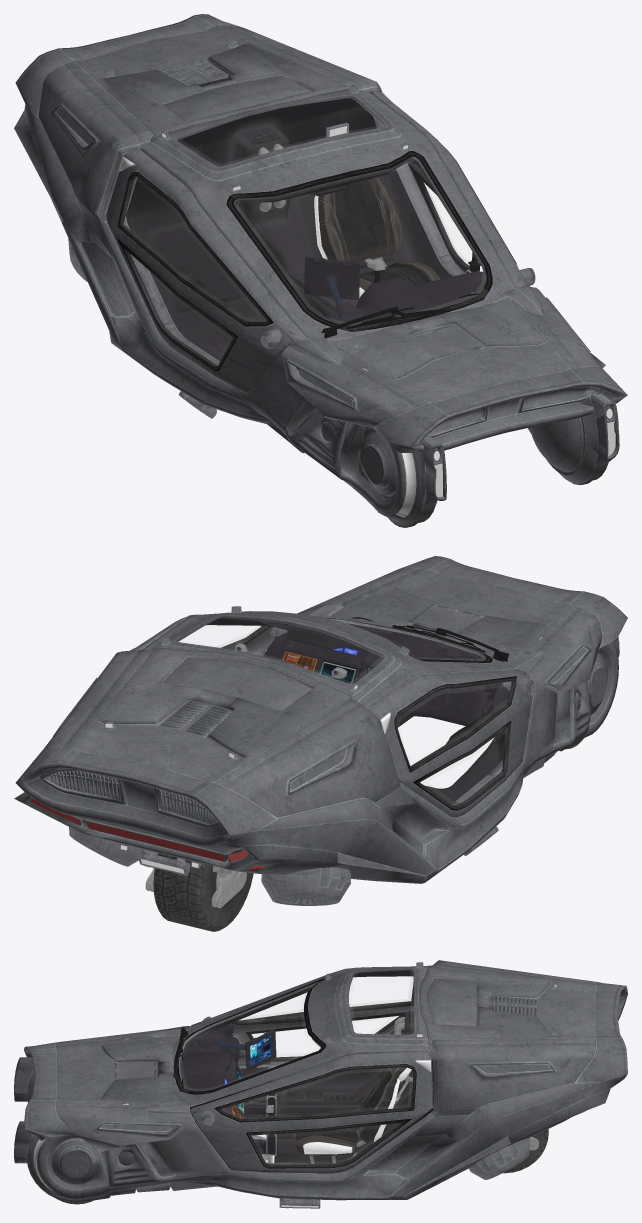
Rendered from car2k.glb.
3 views of the same model, one above another, from view 1: azimuth 30°, elevation 25°; view 2: azimuth 150°, elevation 25°; view 3: azimuth 270°, elevation 25° (orthographic). The views are drawn at different scales.
Parts seen in each view (by area): view 1: spinner, spinner.001; view 2: spinner, spinner.001; view 3: spinner, spinner.001.
Boxes of the visible parts, box(x1,y1,x2,y2) form: spinner: box(14, 14, 619, 527); spinner.001: box(282, 287, 627, 452); spinner: box(14, 593, 619, 931); spinner.001: box(297, 556, 627, 693); spinner: box(14, 960, 627, 1208); spinner.001: box(24, 1029, 195, 1151).
Bounding box in the file's own units: 1.37 × 0.9422 × 3.
Materials: 4 (4 with a texture image).
